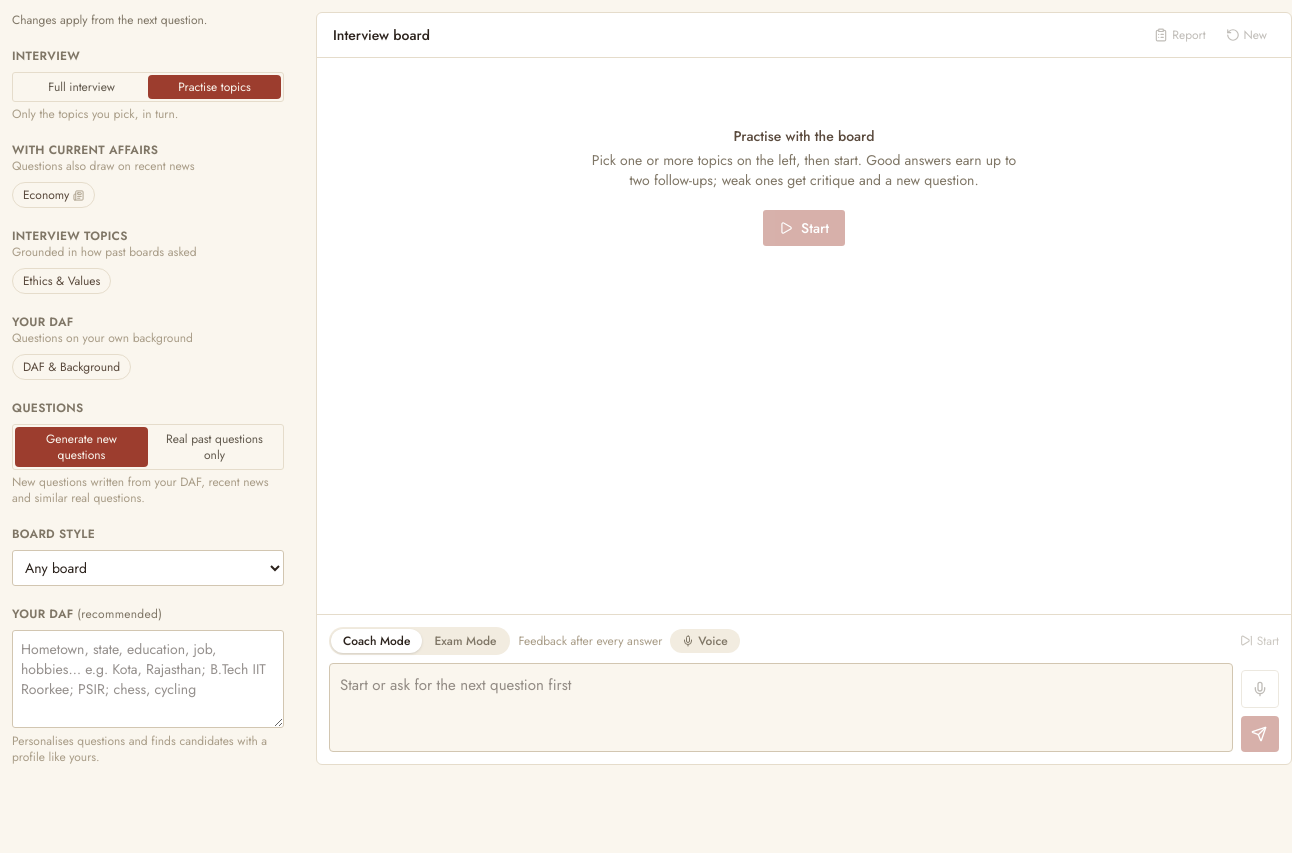
shows an empty report and the mobile filter toggle
Later steps or results of the test are not shown.
Click the button "Economy" at (54,195), box [12, 182, 95, 208]
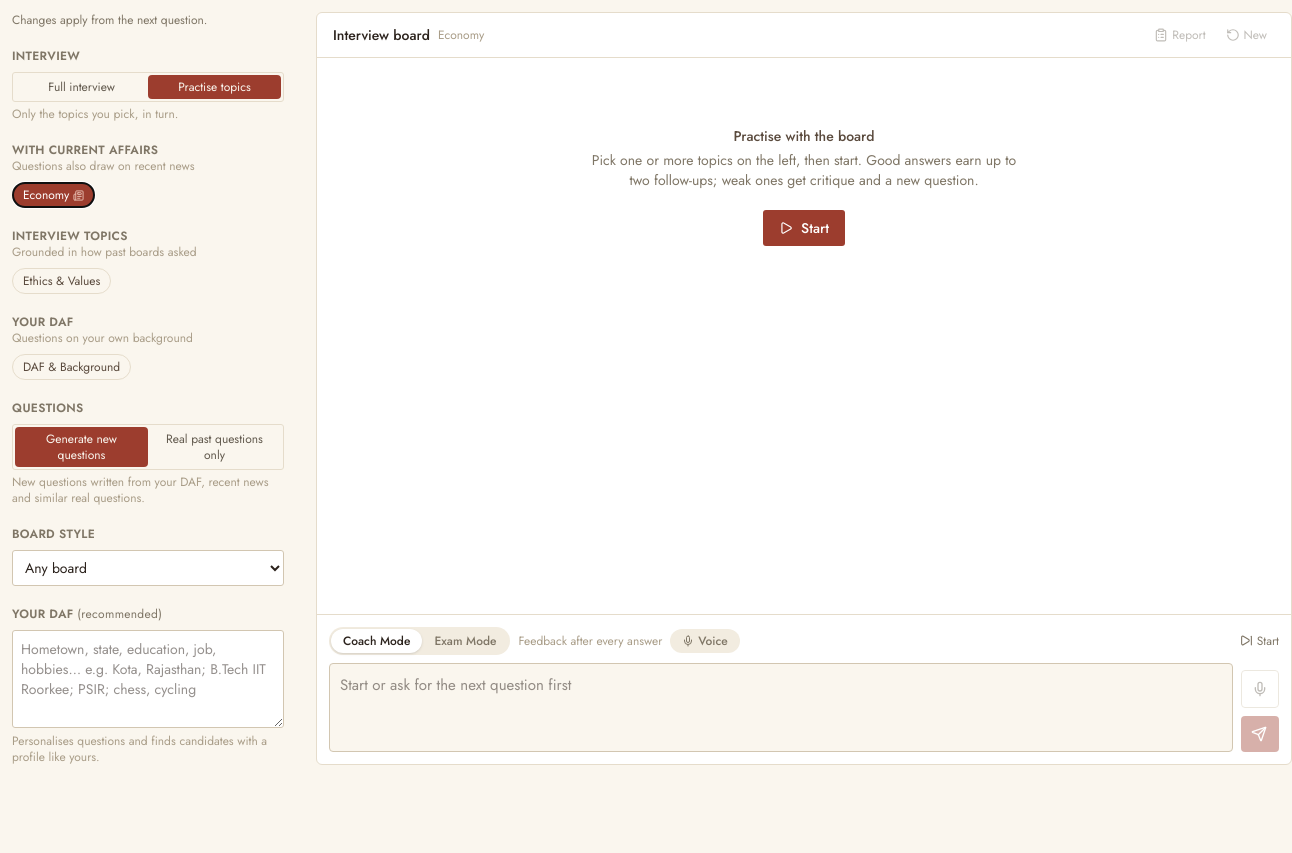
Click the button "Start" below "Practise with the board" at (804,228), box [763, 210, 845, 246]
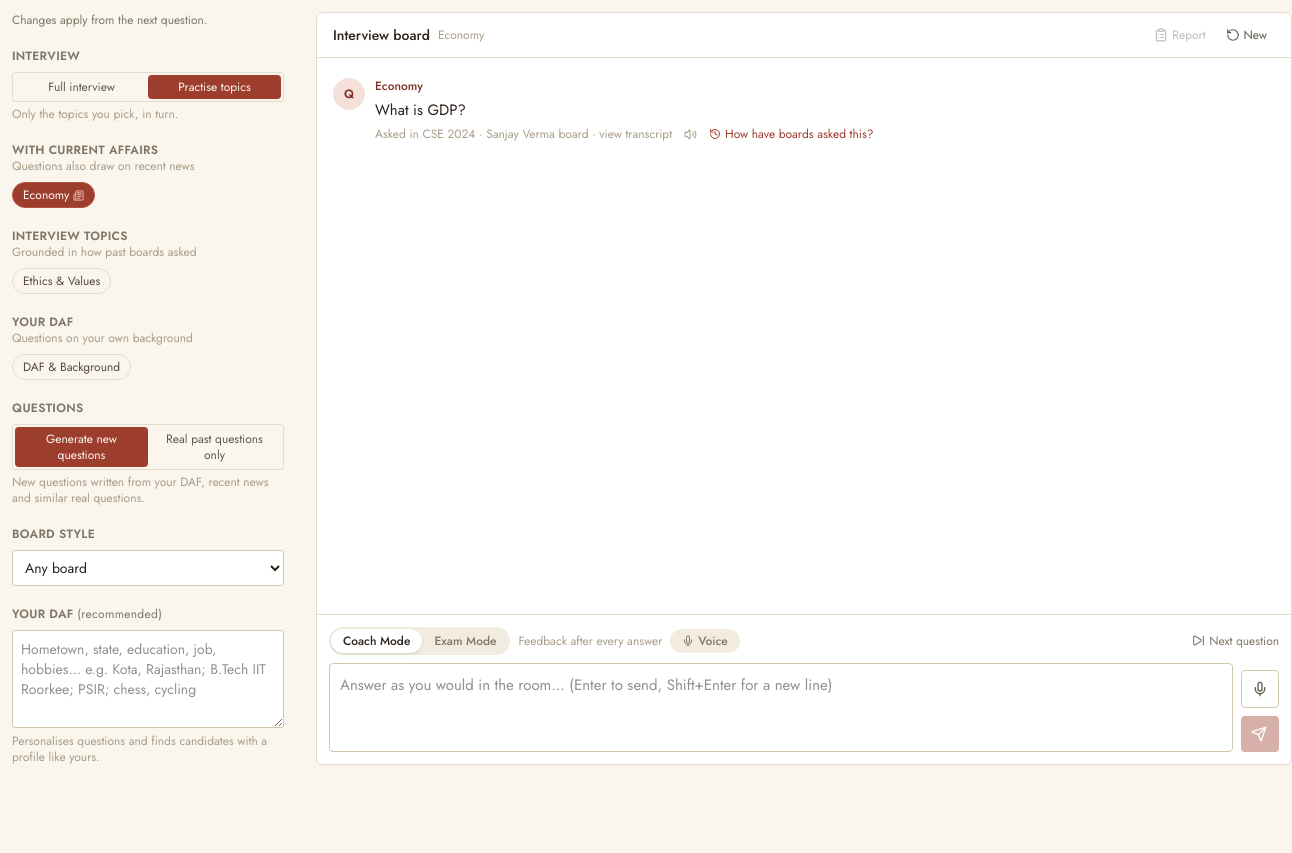
Result: the text "What is GDP?" is shown at [375, 99, 466, 121]
Type "A" into the text box with placeholder "Answer as you would" at (781,707), box [329, 662, 1233, 752]
Then press Enter
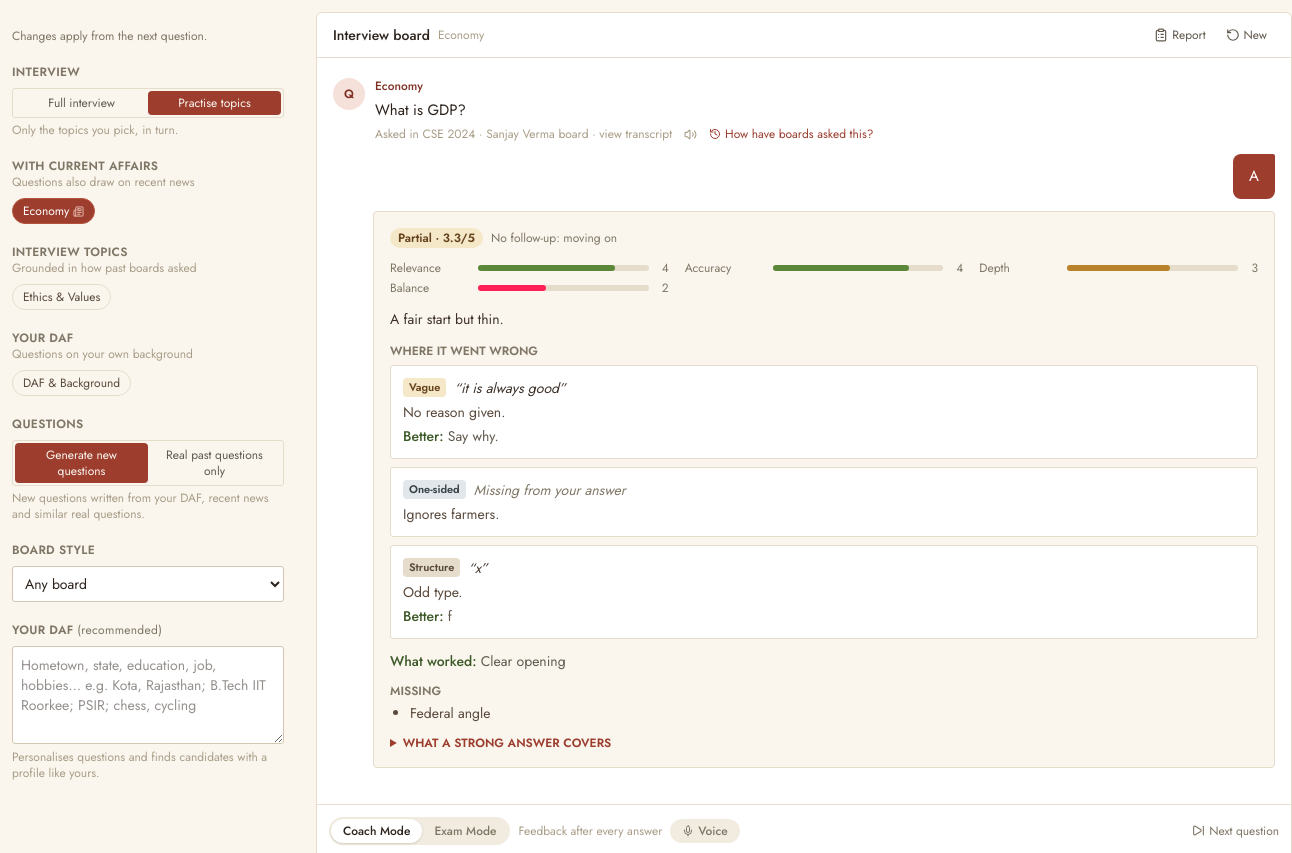
Click the button "Report" at (1180,35), box [1146, 23, 1214, 47]
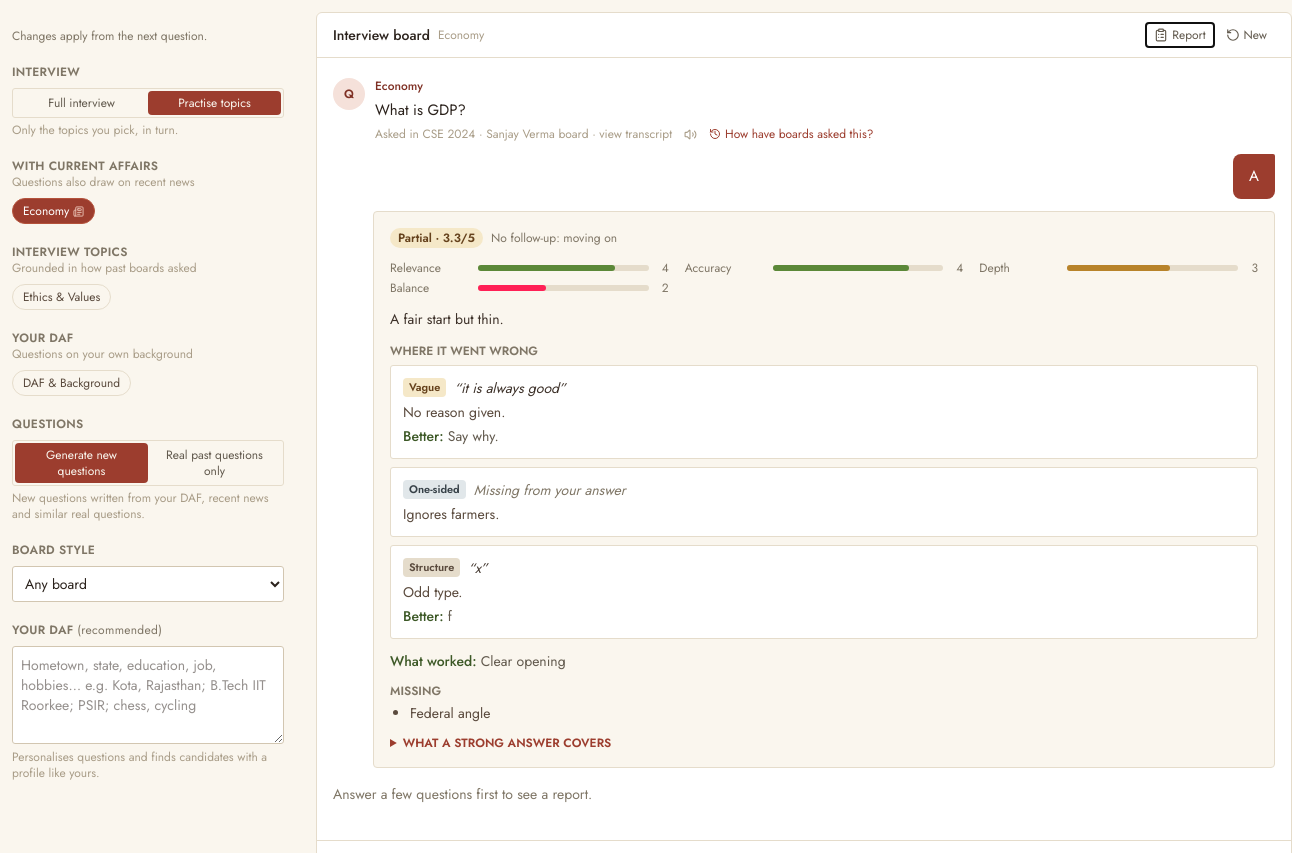
Result: the text "Answer a few questions first to see a report." is shown at [333, 784, 592, 804]
